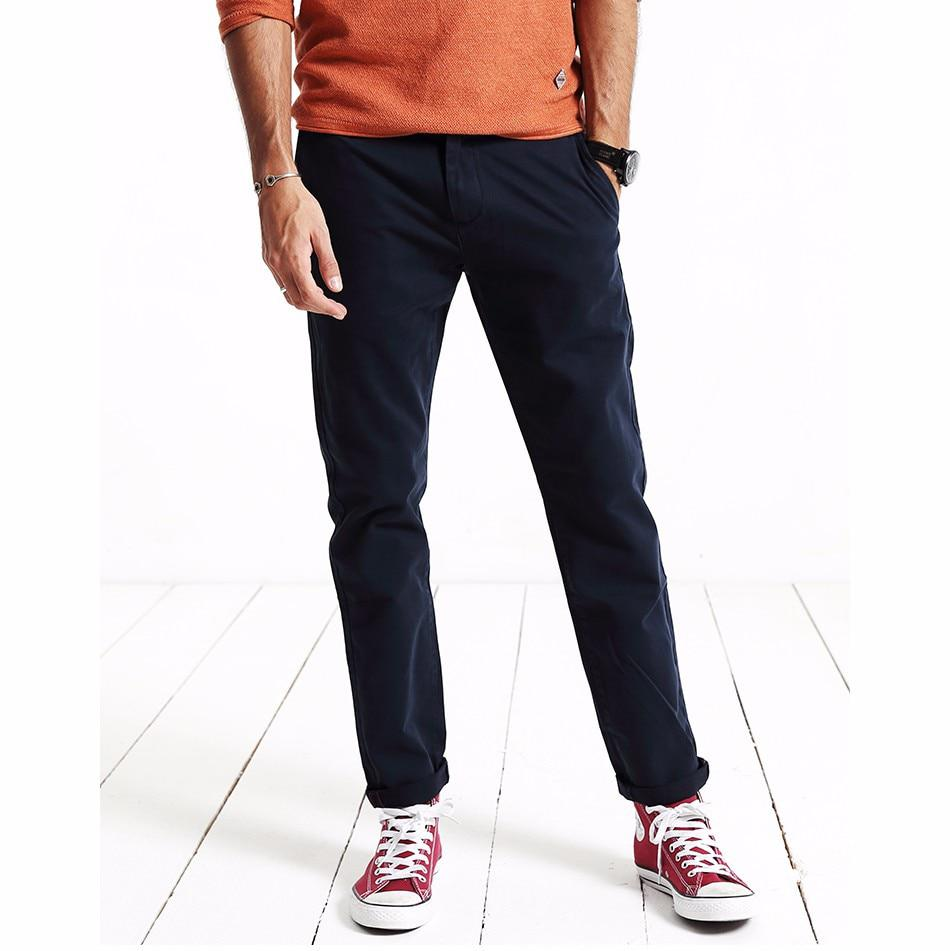pants: (278, 127, 714, 803)
